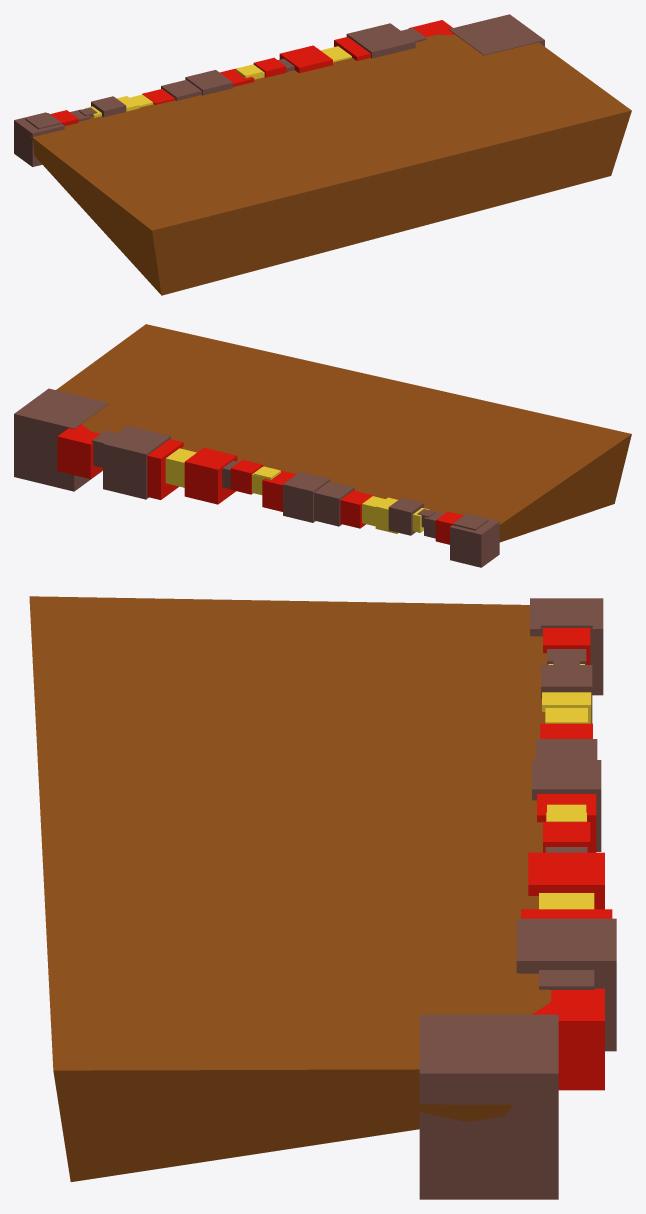
File: stage3_small.fbx
3 renders of one model, top to bottom at view 1: azimuth 30°, elevation 25°; view 2: azimuth 150°, elevation 25°; view 3: azimuth 270°, elevation 25°, orthographic. The views are drawn at different scales.
Visible parts, largest first — view 1: Cube, Cube.001, Cube.006, Cube.026, Cube.008, Cube.015, Cube.016, Cube.020, Cube.007, Cube.002, Cube.010; view 2: Cube, Cube.001, Cube.006, Cube.008, Cube.026, Cube.002, Cube.015, Cube.007, Cube.016, Cube.020, Cube.017, Cube.014 (+7 smaller); view 3: Cube, Cube.001, Cube.006, Cube.002, Cube.008, Cube.015, Cube.026, Cube.020, Cube.025, Cube.016, Cube.010, Cube.014 (+6 smaller).
Boxes of the visible parts, <box> form: Cube: <box>29,34,631,295</box>; Cube.001: <box>448,14,544,55</box>; Cube.006: <box>346,23,415,58</box>; Cube.026: <box>14,112,64,166</box>; Cube.008: <box>279,45,332,73</box>; Cube.015: <box>185,70,233,95</box>; Cube.016: <box>161,79,201,100</box>; Cube.020: <box>91,96,126,117</box>; Cube.007: <box>334,36,370,60</box>; Cube.002: <box>408,20,455,37</box>; Cube.010: <box>253,57,286,77</box>; Cube: <box>56,324,631,542</box>; Cube.001: <box>14,388,108,491</box>; Cube.006: <box>103,425,170,499</box>; Cube.008: <box>184,447,237,504</box>; Cube.026: <box>450,513,499,567</box>; Cube.002: <box>57,424,102,478</box>; Cube.015: <box>283,471,330,522</box>; Cube.007: <box>147,439,183,499</box>; Cube.016: <box>314,481,354,526</box>; Cube.020: <box>388,497,423,535</box>; Cube.017: <box>340,490,373,528</box>; Cube.014: <box>262,470,295,511</box>; Cube: <box>29,596,551,1181</box>; Cube.001: <box>419,1014,558,1199</box>; Cube.006: <box>516,918,616,1051</box>; Cube.002: <box>532,988,604,1090</box>; Cube.008: <box>528,852,604,909</box>; Cube.015: <box>532,760,601,851</box>; Cube.026: <box>530,598,603,695</box>; Cube.020: <box>541,665,592,723</box>; Cube.025: <box>540,603,592,628</box>; Cube.016: <box>536,739,597,759</box>; Cube.010: <box>543,822,590,852</box>; Cube.014: <box>537,794,596,852</box>.
Size of the model in its own units: 16.18 by 2.38 by 8.43.
